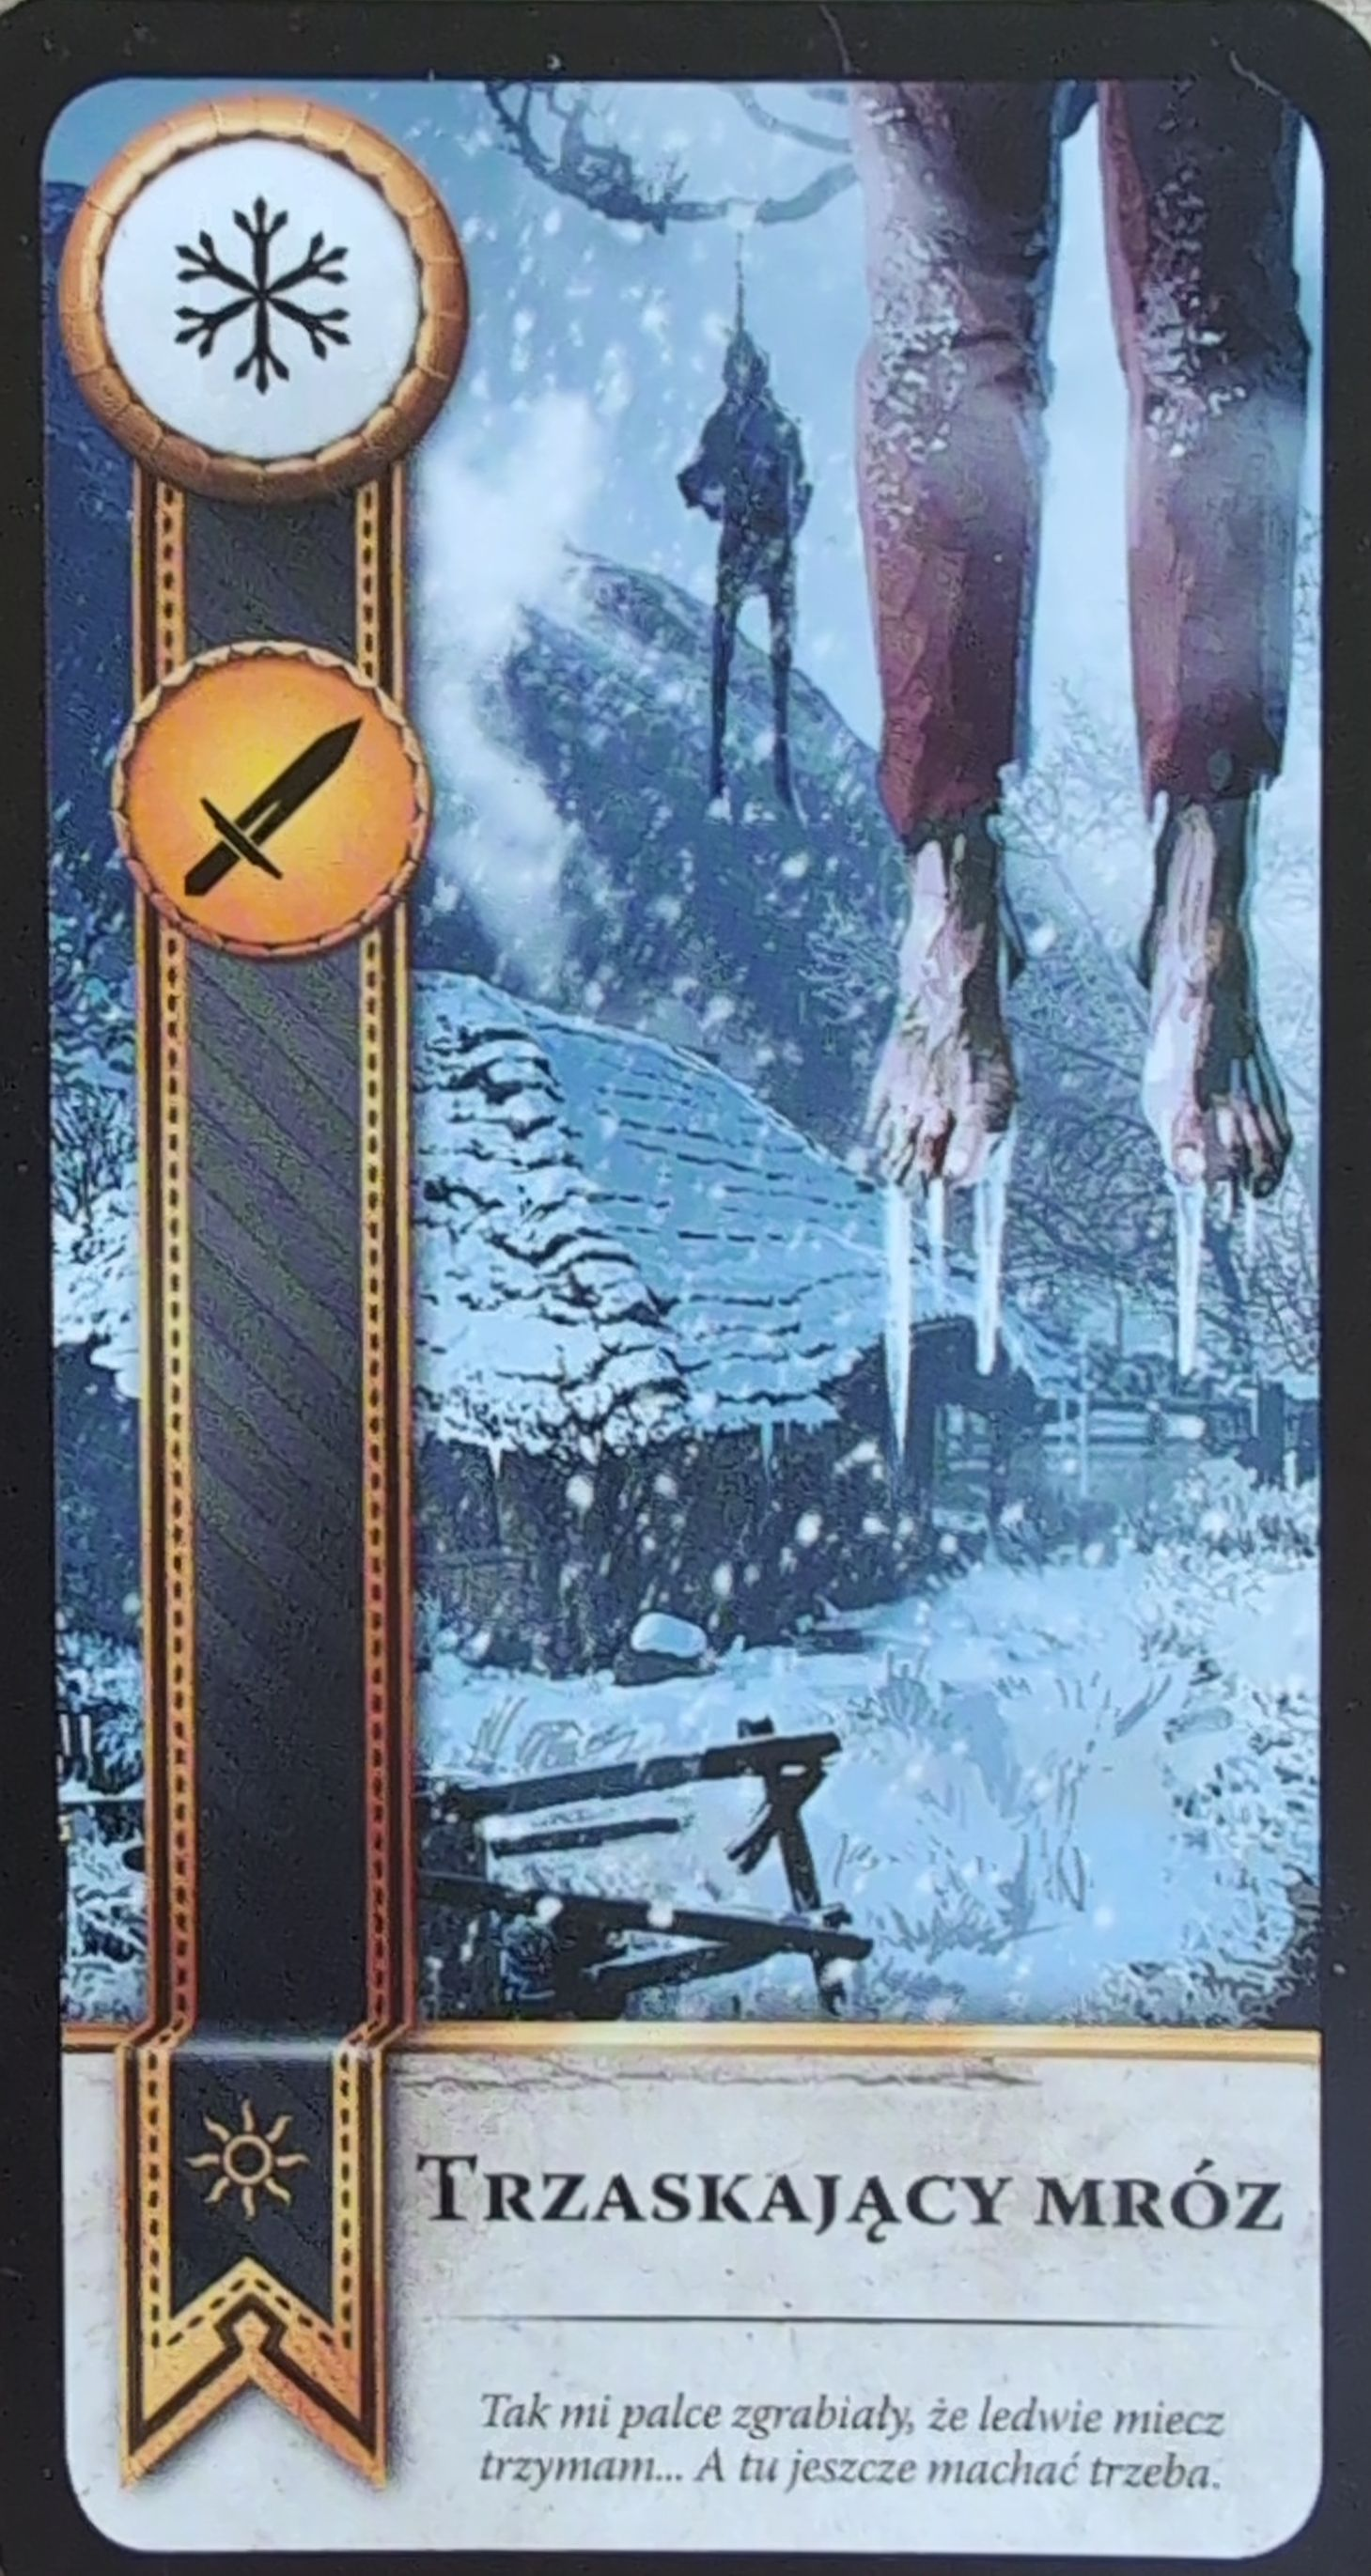miecz: (121, 630, 422, 942)
mroz: (87, 112, 473, 499)
